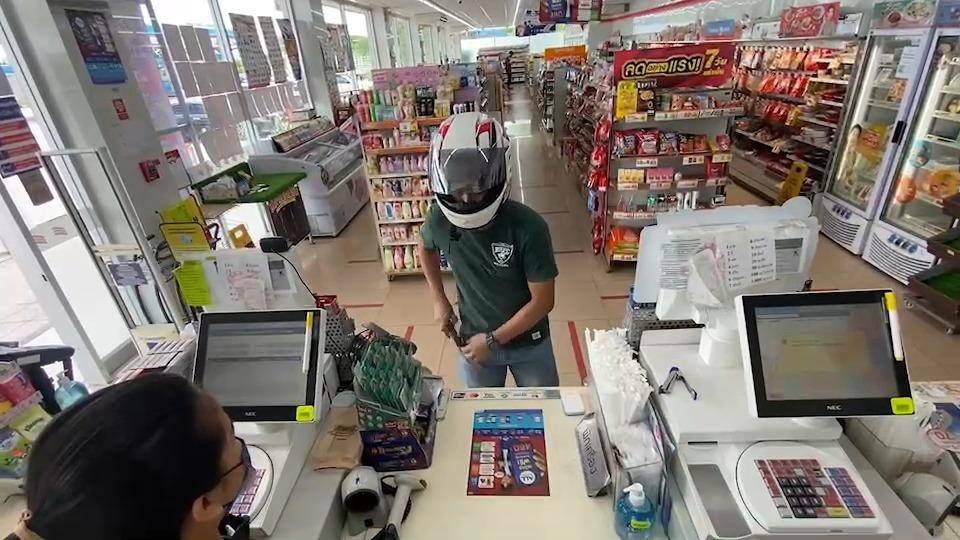criminal: (413, 110, 563, 387)
